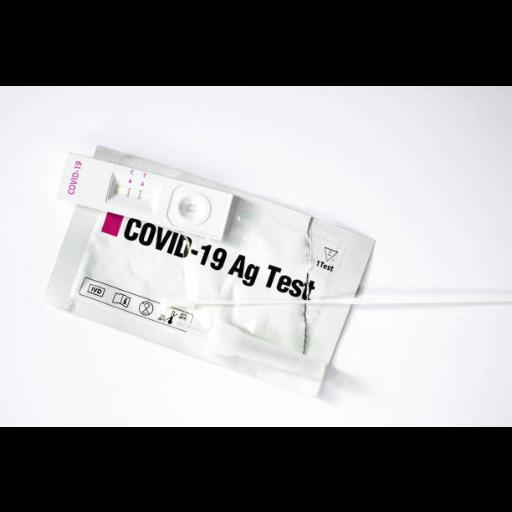Pos: (57, 151, 233, 241)
